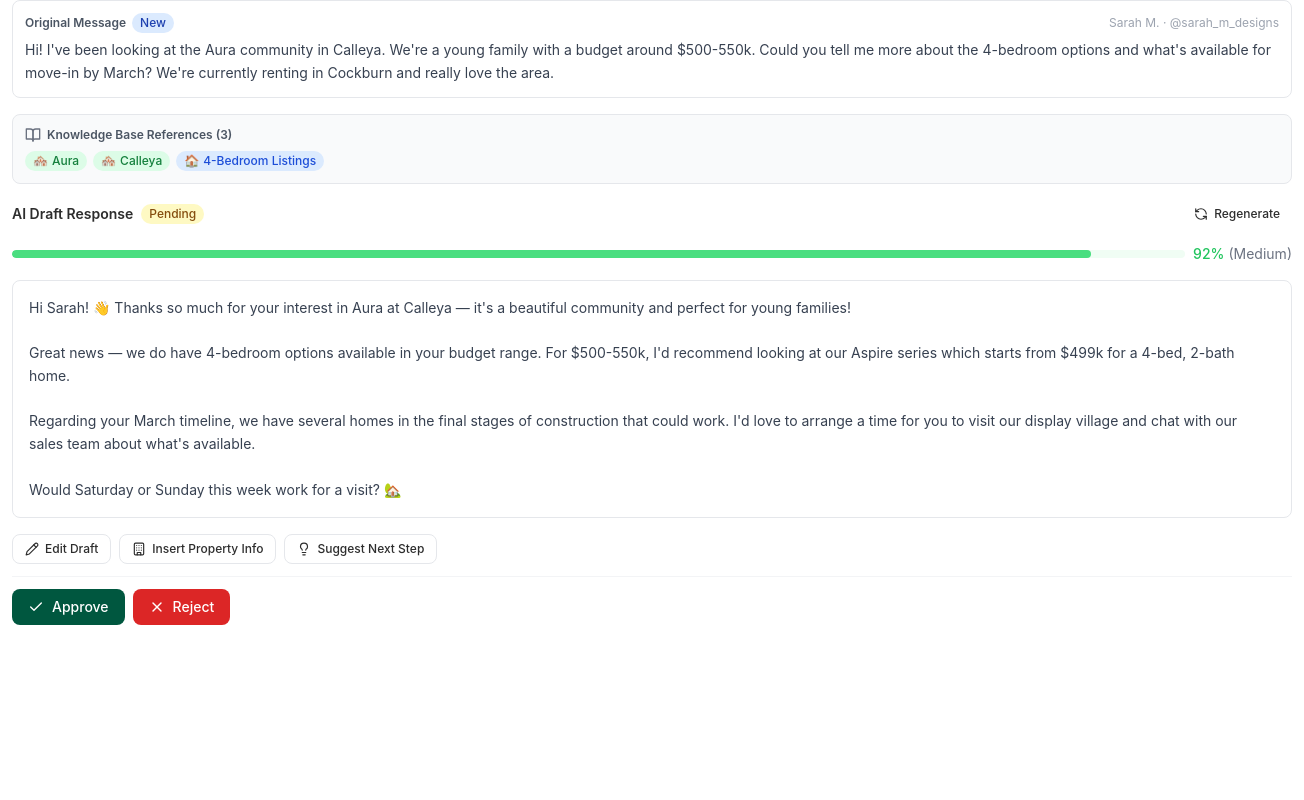
Test: DraftComposer › editing › cancels editing and restores original content
Click the button "Edit Draft" at (62, 549), box [12, 534, 111, 564]
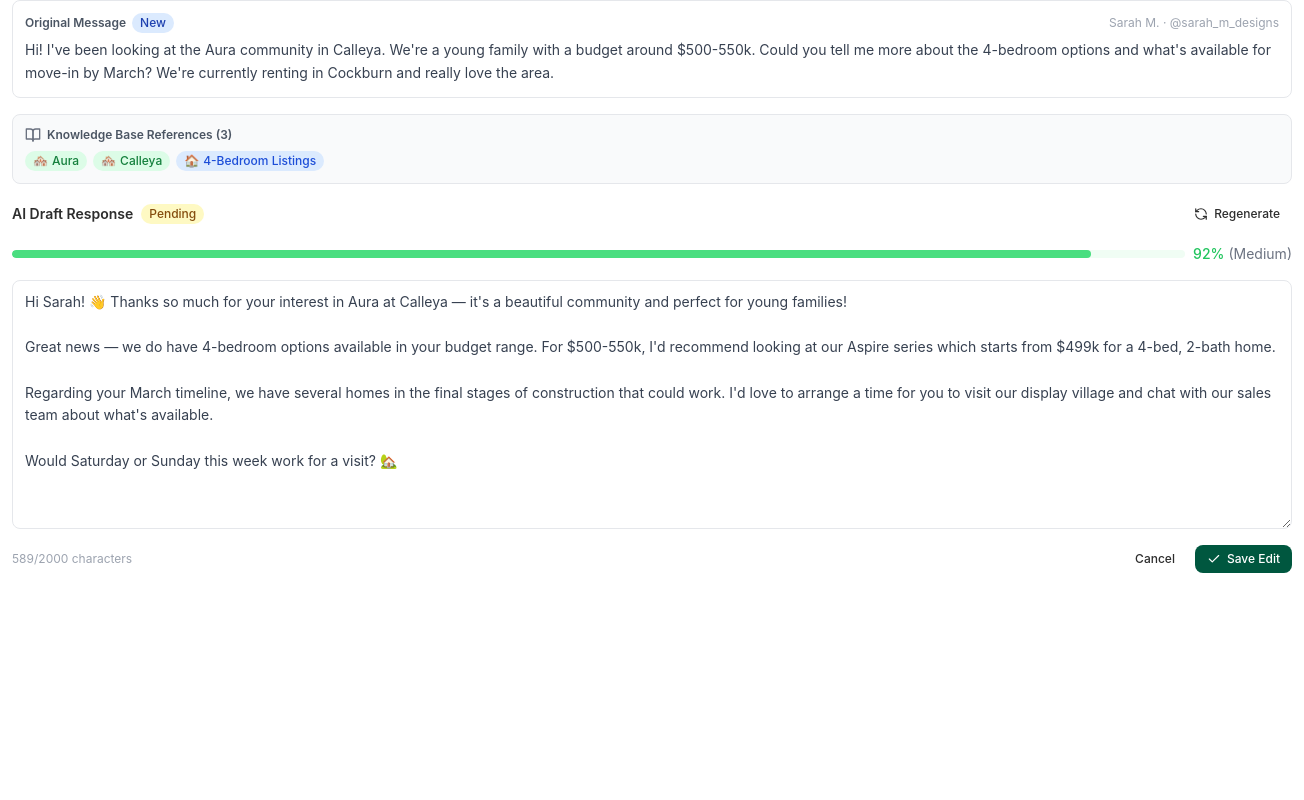
Replace the text in the text box named "Edit draft content" with "Modified content" at (652, 404), box [12, 280, 1292, 529]
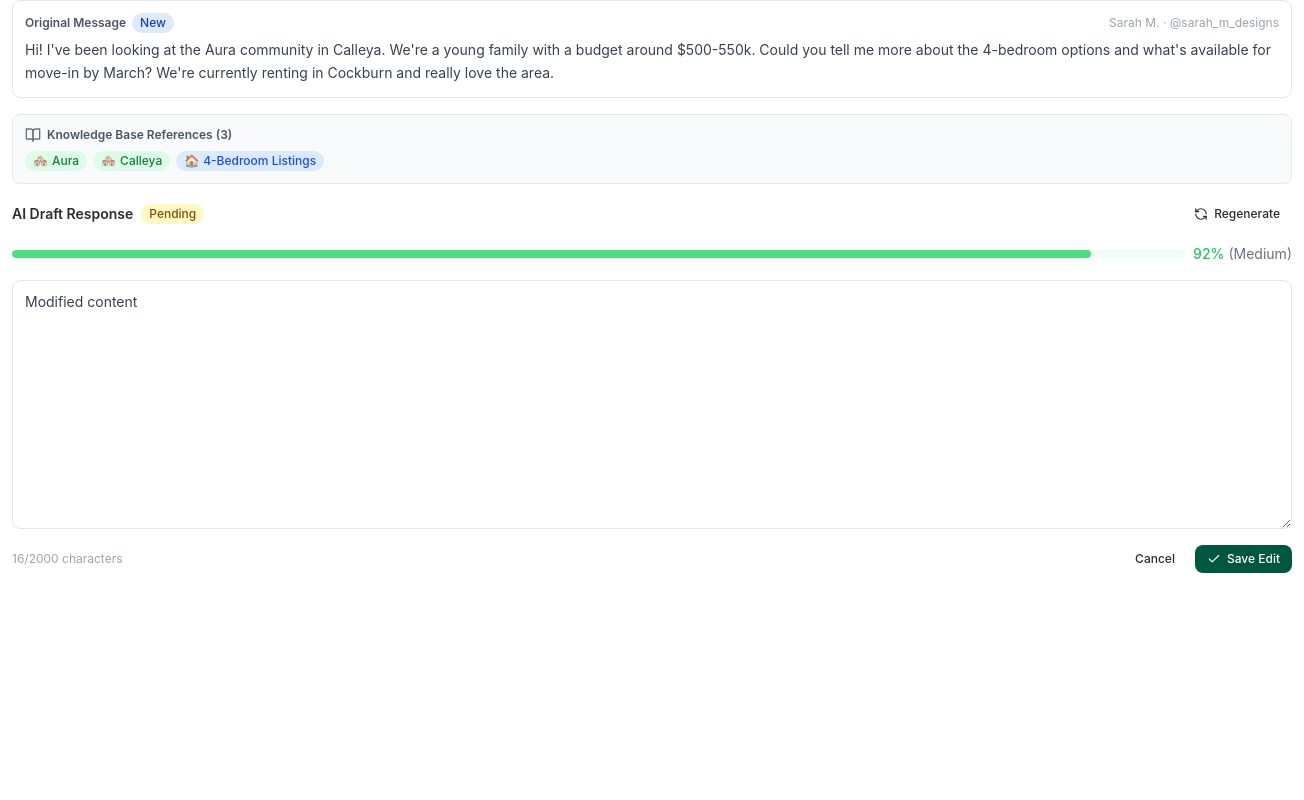
Click the button "Cancel" at (1155, 559), box [1123, 545, 1187, 573]
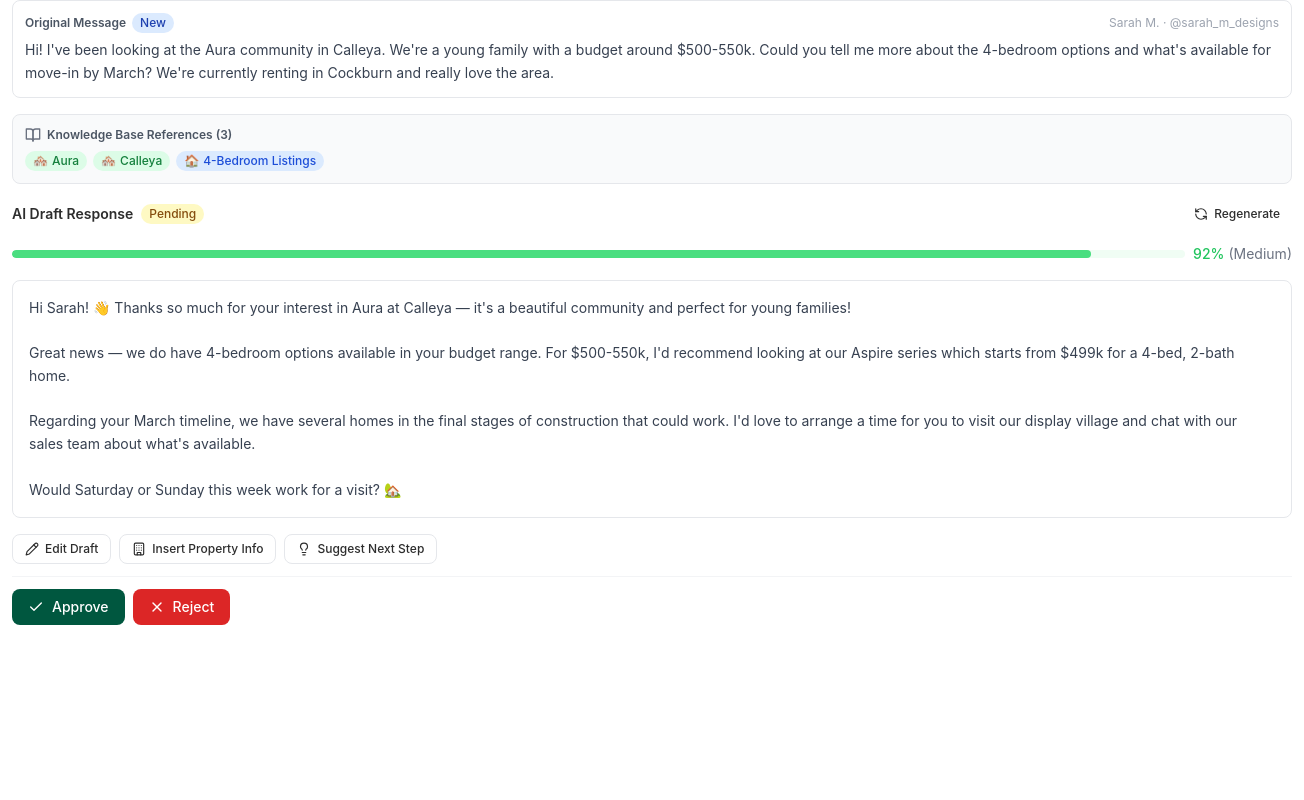
Now the text "Hi Sarah! 👋 Thanks so much for your interest" is shown, box [29, 298, 1241, 498]
